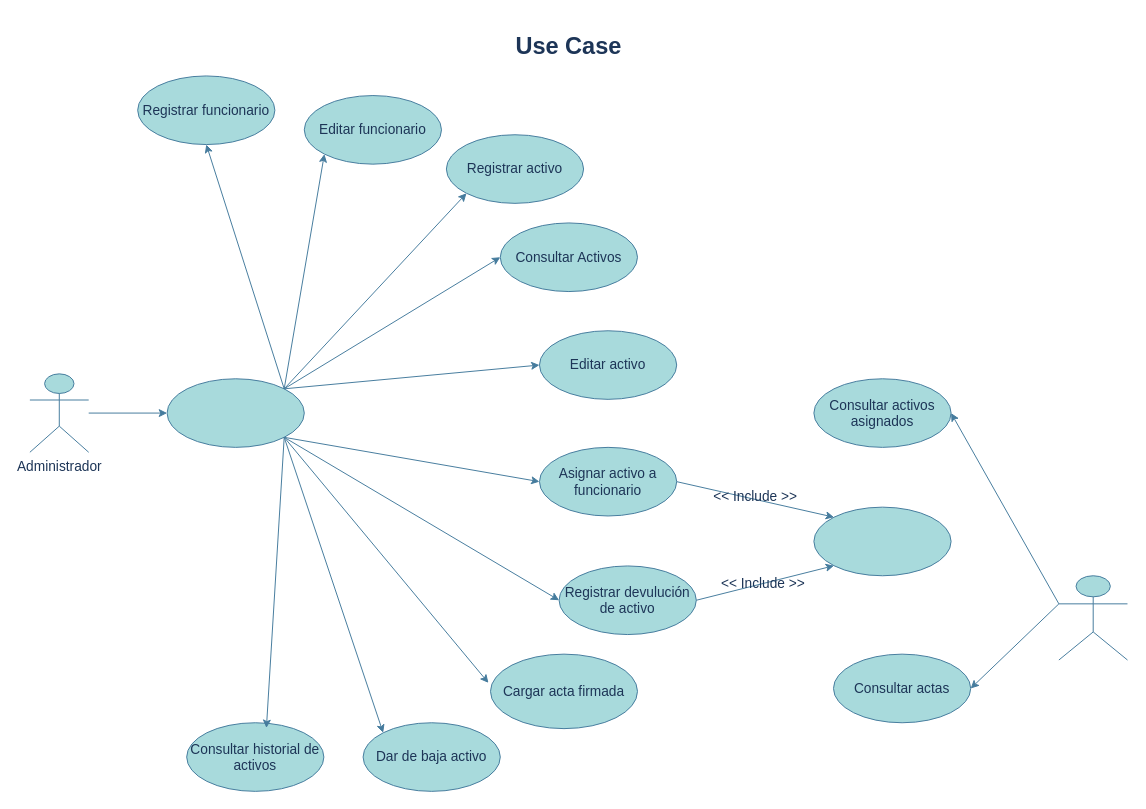
The diagram is 1146 pixels wide and 809 high, and some of its shapes have lost their labels. The centre of each missing label's shape, as x and y in pixels:
Funcionario: point 1092,617
Generar acta PDF: point 882,541
Iniciar sesión: point 235,412
